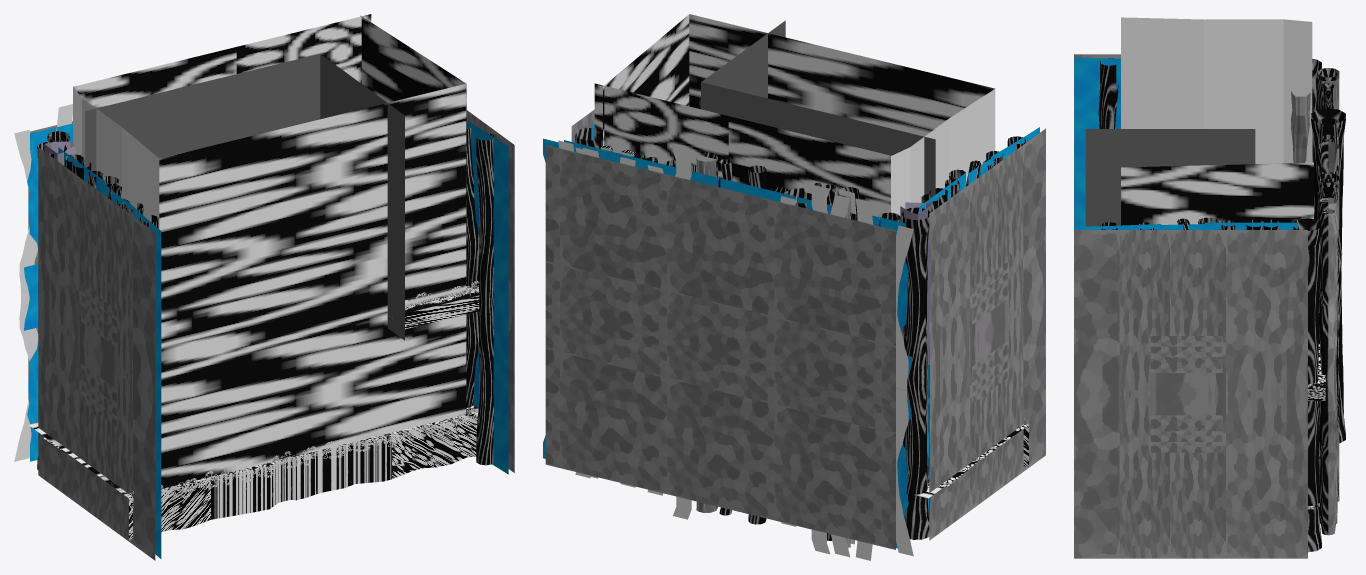
The model's file is mri_18.dae.
The picture shows the model from 3 angles, left to right: view 1: azimuth 30°, elevation 25°; view 2: azimuth 150°, elevation 25°; view 3: azimuth 270°, elevation 25°; orthographic projection.
Parts seen in each view (by area): view 1: polySurface176_q00010, S_f2_oku, S_f1_oku, A_f2_rak_r, S_f1_yukaA, polySurface178_q00012, S_f2_oku_04_part1, polySurface177_q00011, polySurface157_q00009, S_f1_oku_04_part1, polySurface179, S_f2_oku_04_part0 (+4 smaller); view 2: S_f2_oku, S_f1_oku, polySurface178_q00012, polySurface176_q00010, A_f2_rak_r, polySurface157_q00009, polySurface177_q00011, S_f2_oku_02_part0, S_f1_oku_02_part0, S_f2_oku_04_part0, S_f2_oku_04_part1, A_dokan1_fream (+3 smaller); view 3: S_f2_oku, S_f1_oku, polySurface157_q00009, polySurface177_q00011, A_f2_rak_r, S_f2_oku_04_part1, polySurface100_q00014, S_f2_yukaA.
Part boxes in pixels (<box>): polySurface176_q00010: <box>159,84,466,488</box>; S_f2_oku: <box>28,110,514,396</box>; S_f1_oku: <box>28,301,514,560</box>; A_f2_rak_r: <box>85,53,404,340</box>; S_f1_yukaA: <box>43,405,478,540</box>; polySurface178_q00012: <box>73,14,371,108</box>; S_f2_oku_04_part1: <box>58,121,508,394</box>; polySurface177_q00011: <box>360,15,466,414</box>; polySurface157_q00009: <box>73,87,159,228</box>; S_f1_oku_04_part1: <box>155,301,508,558</box>; polySurface179: <box>129,408,478,508</box>; S_f2_oku_04_part0: <box>24,123,72,297</box>; S_f2_oku: <box>545,109,1045,393</box>; S_f1_oku: <box>545,292,1045,549</box>; polySurface178_q00012: <box>594,83,890,216</box>; polySurface176_q00010: <box>689,14,994,136</box>; A_f2_rak_r: <box>701,20,935,197</box>; polySurface157_q00009: <box>891,89,995,444</box>; polySurface177_q00011: <box>603,14,689,146</box>; S_f2_oku_02_part0: <box>575,147,913,390</box>; S_f1_oku_02_part0: <box>575,388,913,557</box>; S_f2_oku_04_part0: <box>543,138,911,377</box>; S_f2_oku_04_part1: <box>591,124,1039,214</box>; A_dokan1_fream: <box>900,202,931,365</box>; S_f2_oku: <box>1074,54,1345,394</box>; S_f1_oku: <box>1074,219,1345,558</box>; polySurface157_q00009: <box>1121,17,1312,163</box>; polySurface177_q00011: <box>1121,162,1313,225</box>; A_f2_rak_r: <box>1085,129,1255,226</box>; S_f2_oku_04_part1: <box>1074,57,1297,229</box>; polySurface100_q00014: <box>1291,91,1312,163</box>; S_f2_yukaA: <box>1308,344,1325,400</box>.
Bounding box in the file's own units: 74.91 × 75.14 × 47.5.
